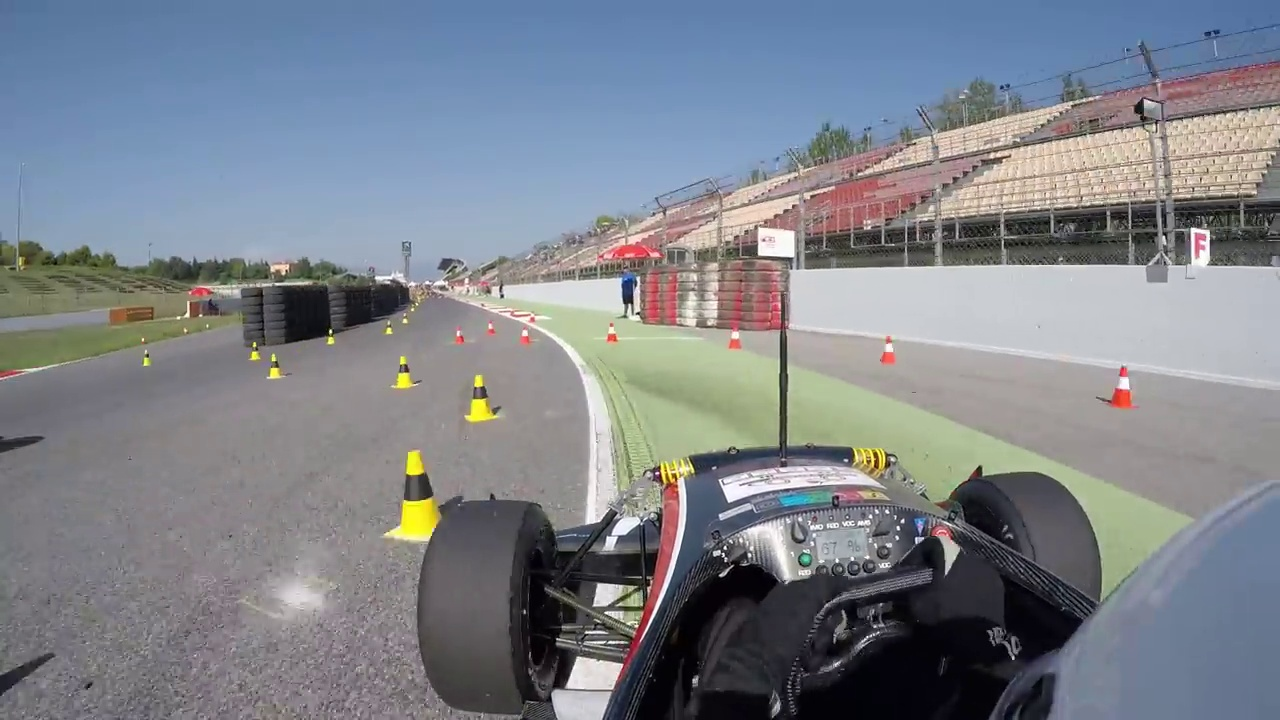Cone: (389, 448, 445, 541), (466, 375, 498, 423), (1107, 364, 1136, 407), (391, 352, 416, 390), (265, 350, 289, 381), (877, 335, 900, 367)
